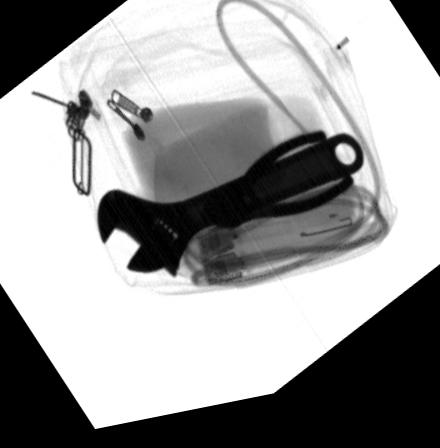Pliers: (204, 142, 355, 236)
Wrench: (99, 146, 364, 284)
